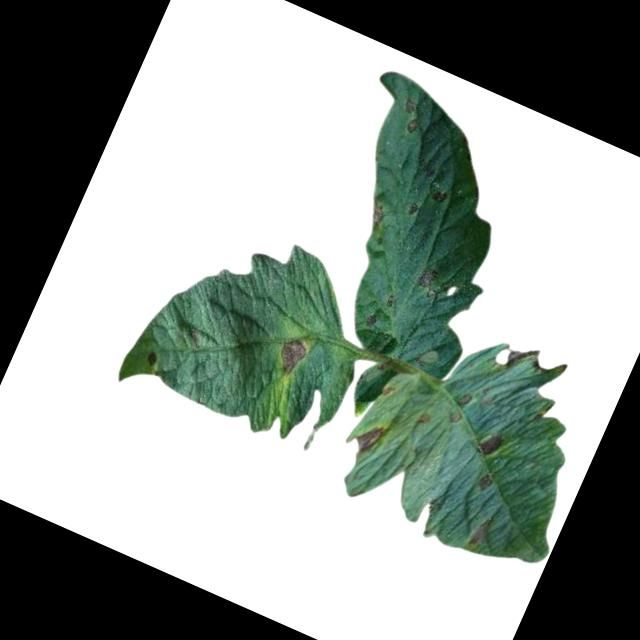Early_blight: (348, 418, 389, 463), (271, 334, 311, 380), (474, 428, 509, 464), (467, 512, 496, 550), (415, 266, 441, 294), (363, 202, 389, 230), (475, 473, 495, 496), (403, 117, 422, 140), (431, 188, 450, 209), (457, 391, 475, 409), (363, 312, 379, 329), (144, 350, 159, 368)
